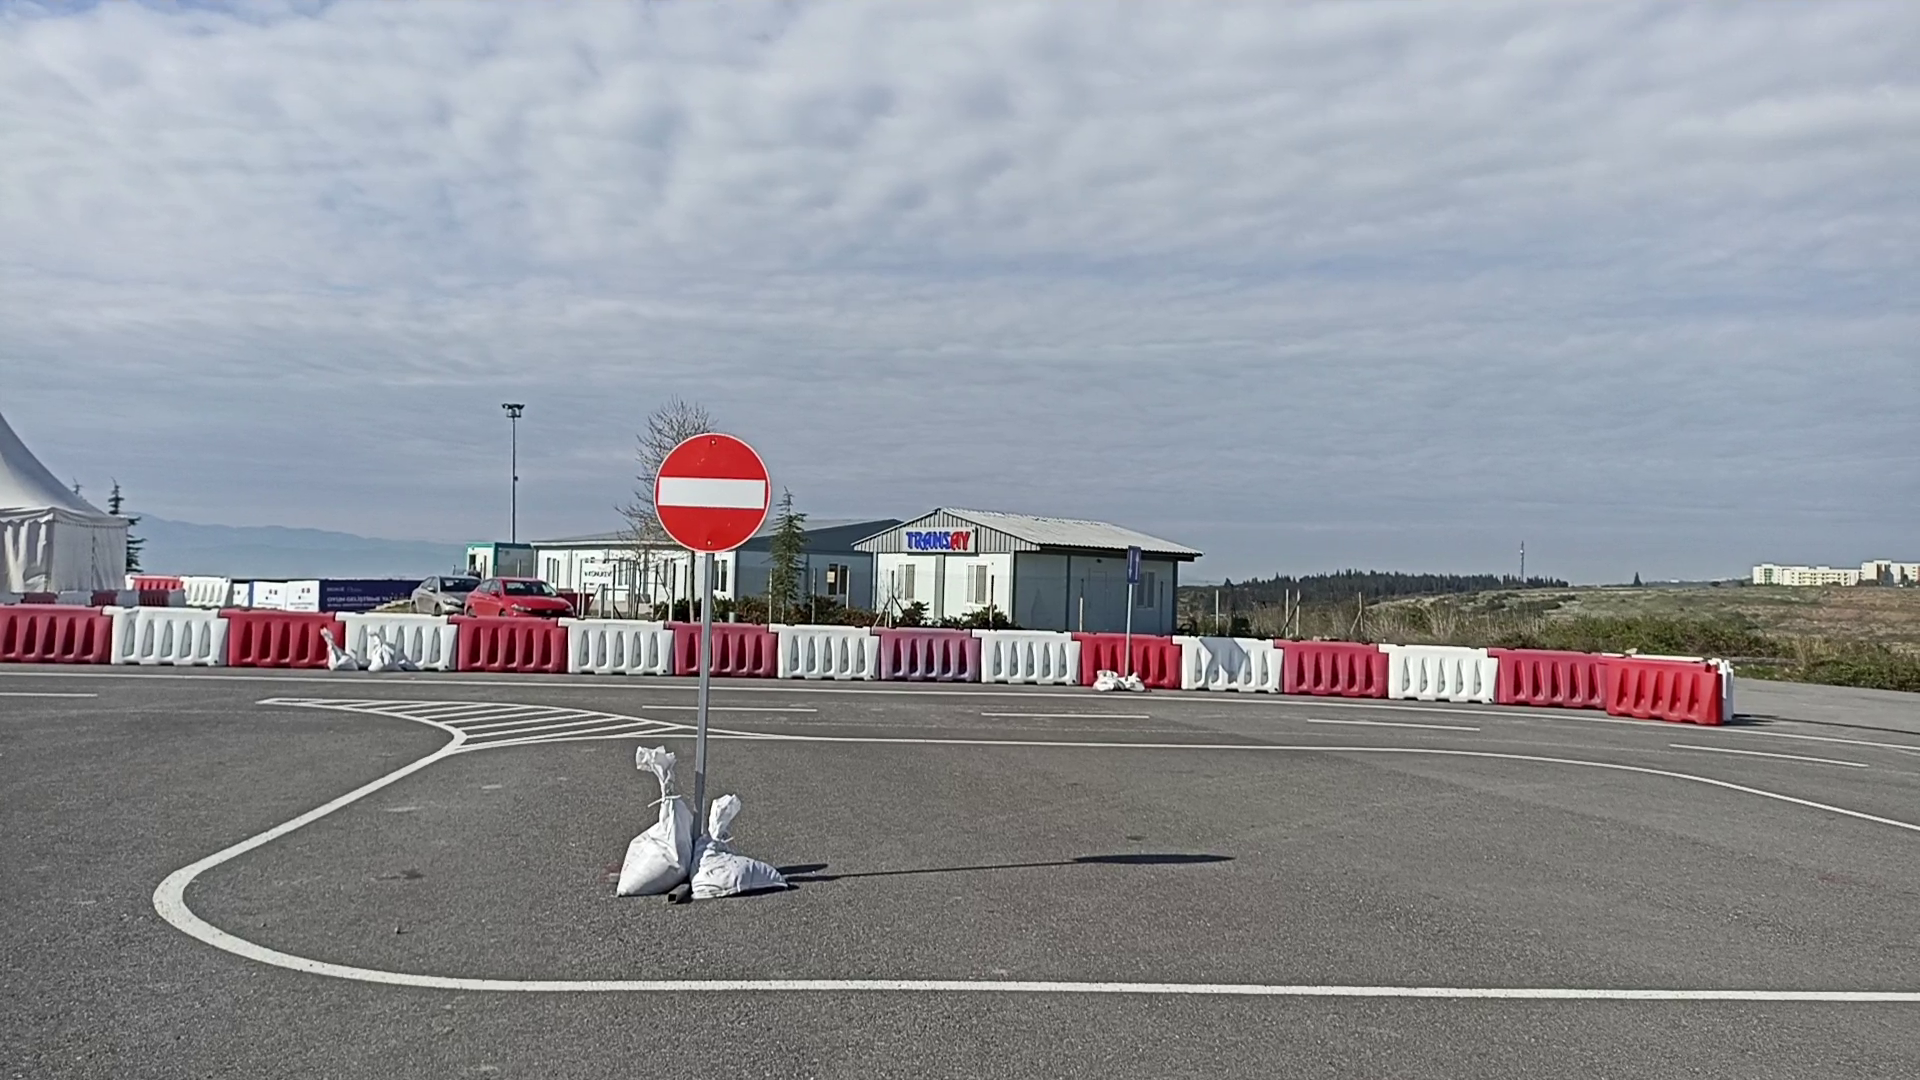noentryway: (651, 431, 773, 554)
